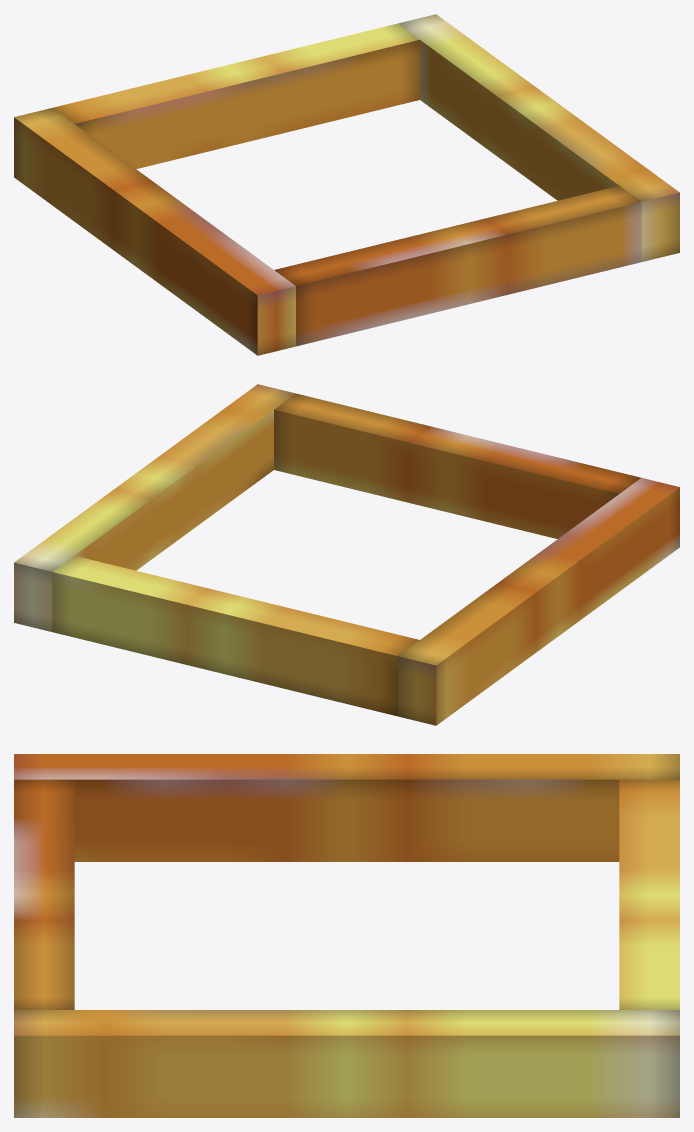
Rendered from halo.obj.
3 views of the same model, one above another, from view 1: azimuth 30°, elevation 25°; view 2: azimuth 150°, elevation 25°; view 3: azimuth 270°, elevation 25° (orthographic). The views are drawn at different scales.
Visible parts, largest first — view 1: halo_part_2, halo_part_1, halo_part_0, halo_part_3; view 2: halo_part_1, halo_part_2, halo_part_0, halo_part_3; view 3: halo_part_3, halo_part_0, halo_part_1, halo_part_2.
Boxes of the visible parts, x1,y1,x2,y2 form: halo_part_2: (274, 185, 641, 346); halo_part_1: (52, 23, 419, 168); halo_part_0: (14, 108, 295, 355); halo_part_3: (398, 14, 679, 261); halo_part_1: (52, 555, 419, 716); halo_part_2: (274, 393, 641, 538); halo_part_0: (398, 478, 679, 725); halo_part_3: (14, 384, 295, 631); halo_part_3: (14, 1010, 679, 1117); halo_part_0: (14, 754, 679, 861); halo_part_1: (619, 779, 679, 1009); halo_part_2: (14, 779, 74, 1009).
Size of the model in its own units: 0.6875 by 0.0938 by 0.6875.
Materials: 1 (1 with a texture image).
